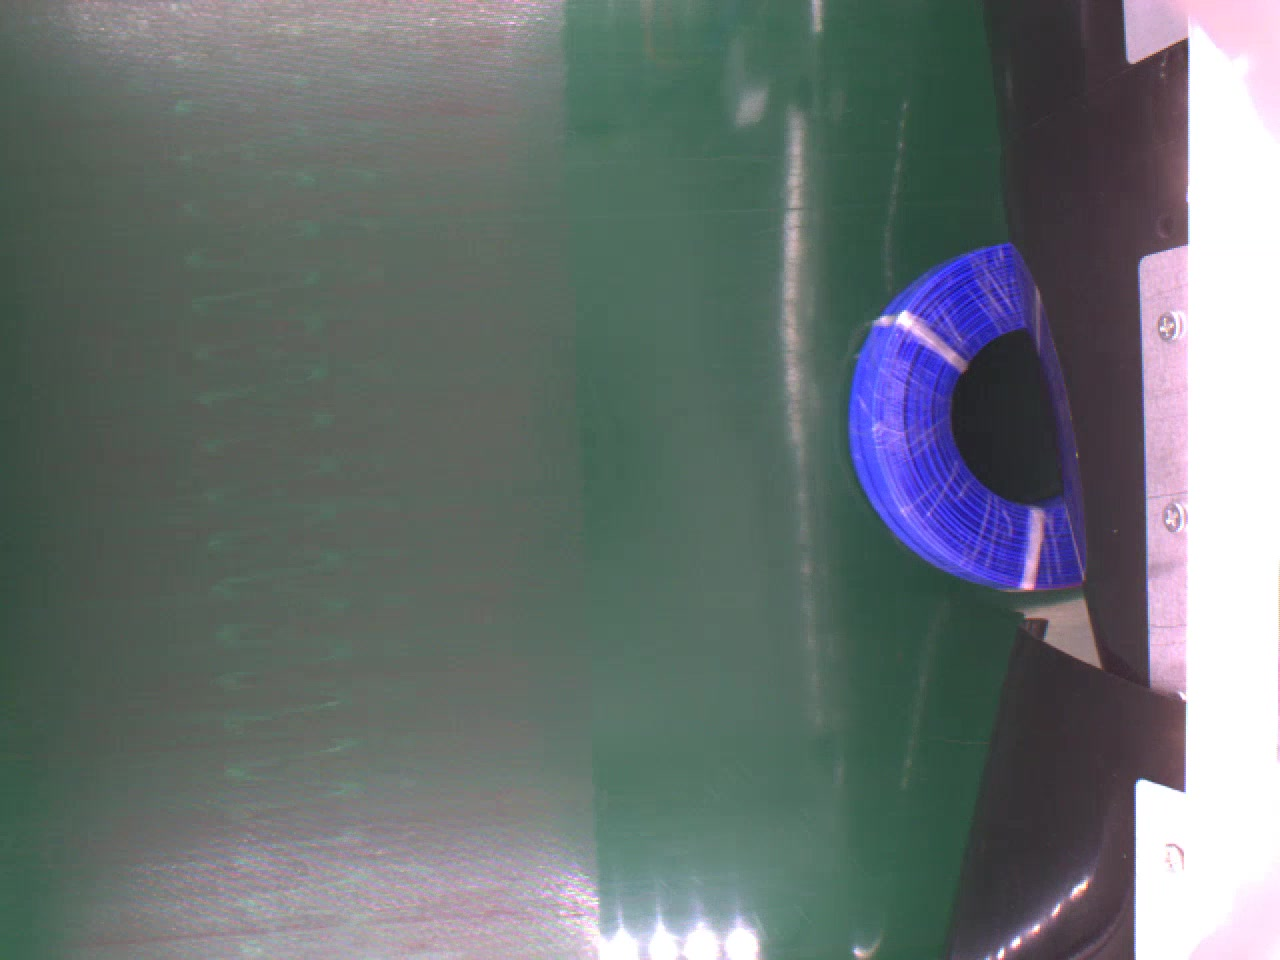blue: (845, 243, 1085, 594)
